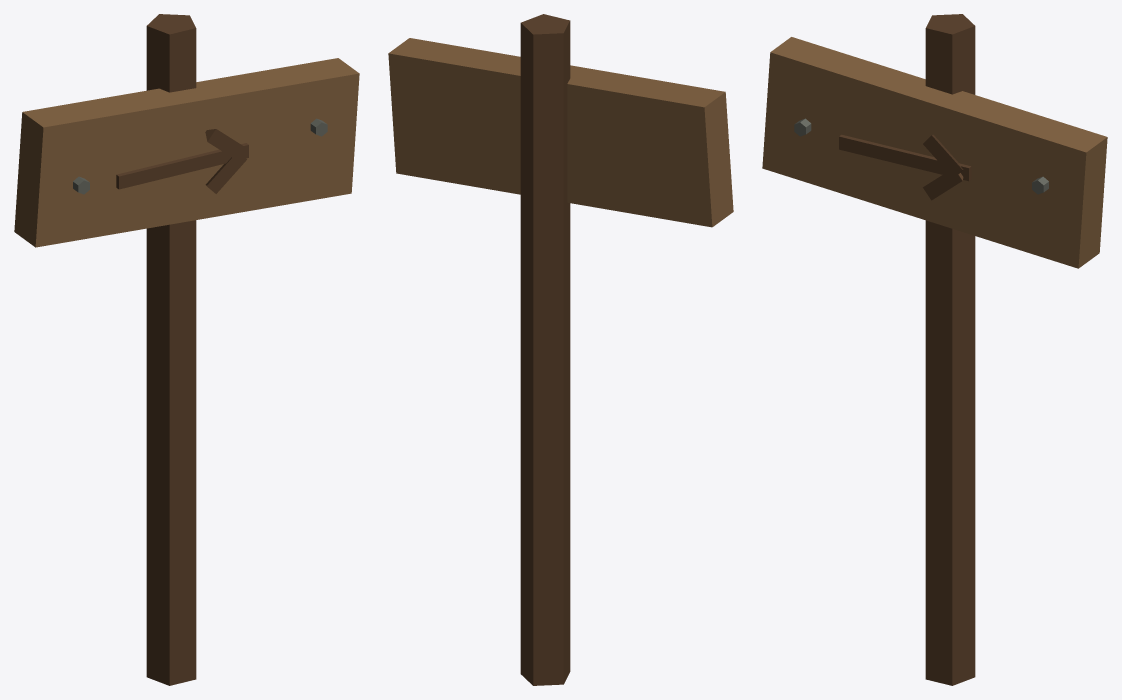
The model's file is signpost.glb.
3 views of the same model, side by side, from view 1: azimuth 30°, elevation 25°; view 2: azimuth 150°, elevation 25°; view 3: azimuth 330°, elevation 25° (orthographic).
Parts seen in each view (by area): view 1: signpost; view 2: signpost; view 3: signpost.
Boxes of the visible parts, bbox=[...] form: signpost: bbox=[14, 14, 359, 685]; signpost: bbox=[388, 14, 733, 685]; signpost: bbox=[762, 14, 1107, 685].
Size of the model in its own units: 0.5726 by 1.1 by 0.135.
